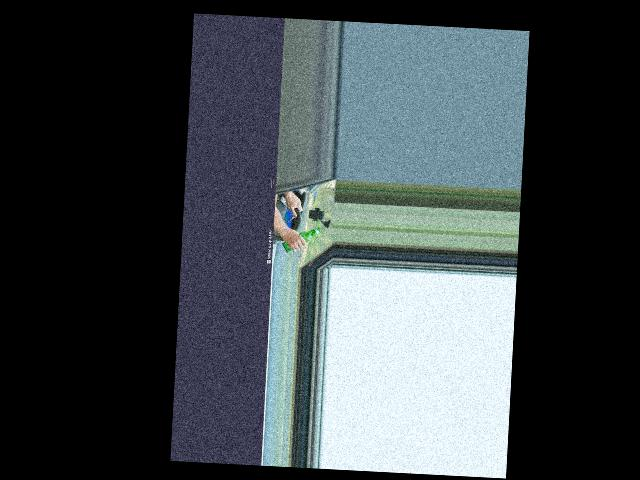beer: (281, 225, 320, 253)
